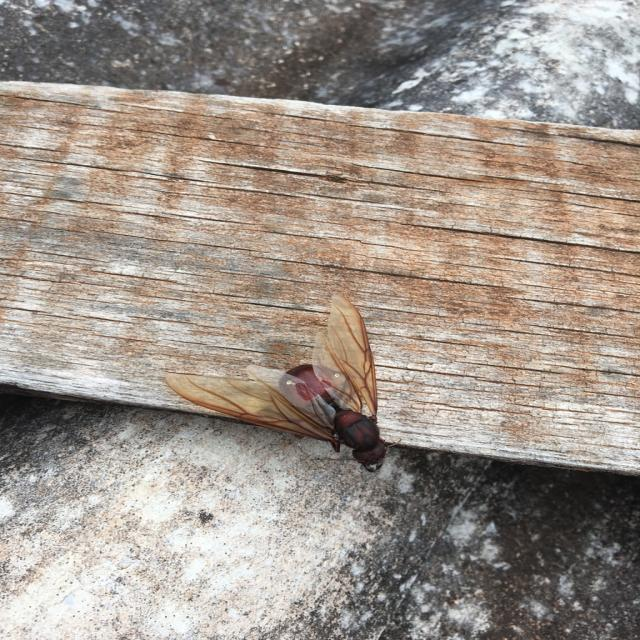Alive-Female-Alate: (164, 294, 402, 473)
